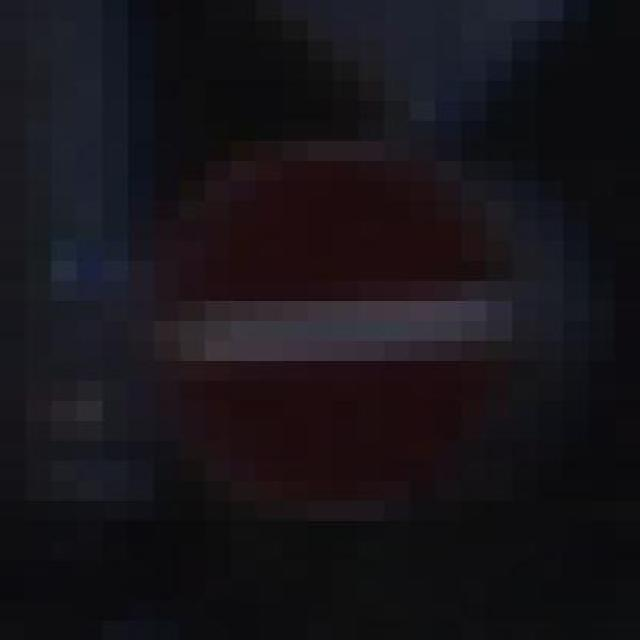No Entry: (75, 83, 588, 523)
